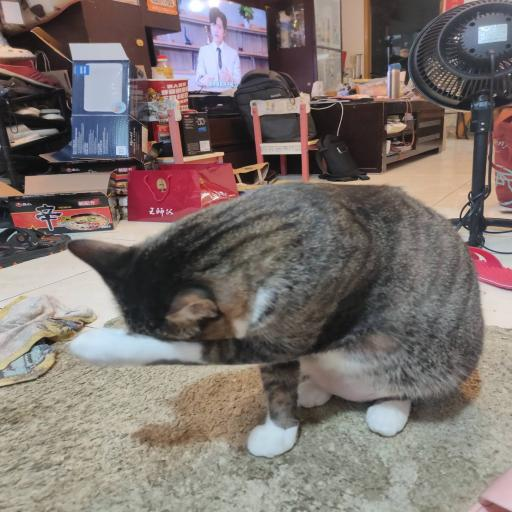cat: (68, 182, 486, 439)
